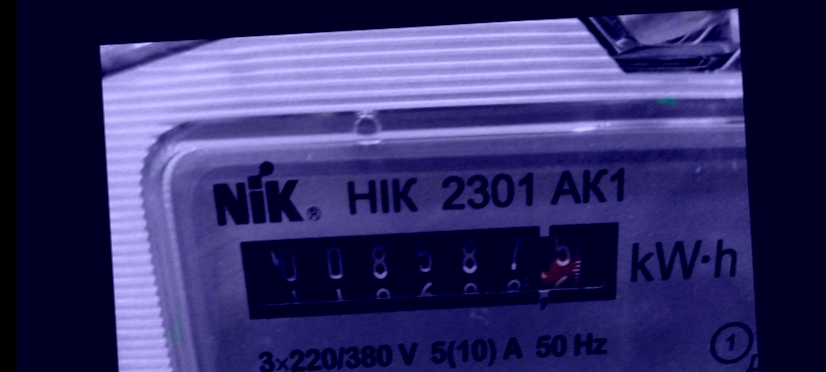0: (321, 242, 348, 284)
1: (275, 245, 302, 287)
5: (550, 230, 576, 271), (412, 238, 437, 277)
7: (501, 234, 526, 276)
8: (365, 242, 393, 284), (457, 237, 481, 279)
screen: (219, 200, 643, 343)
